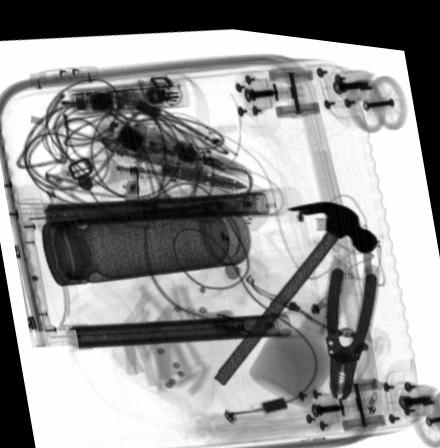Hammer: (212, 191, 377, 379)
Knife: (130, 118, 253, 169)
Pliers: (326, 249, 380, 391)
Scissors: (54, 111, 246, 185)
